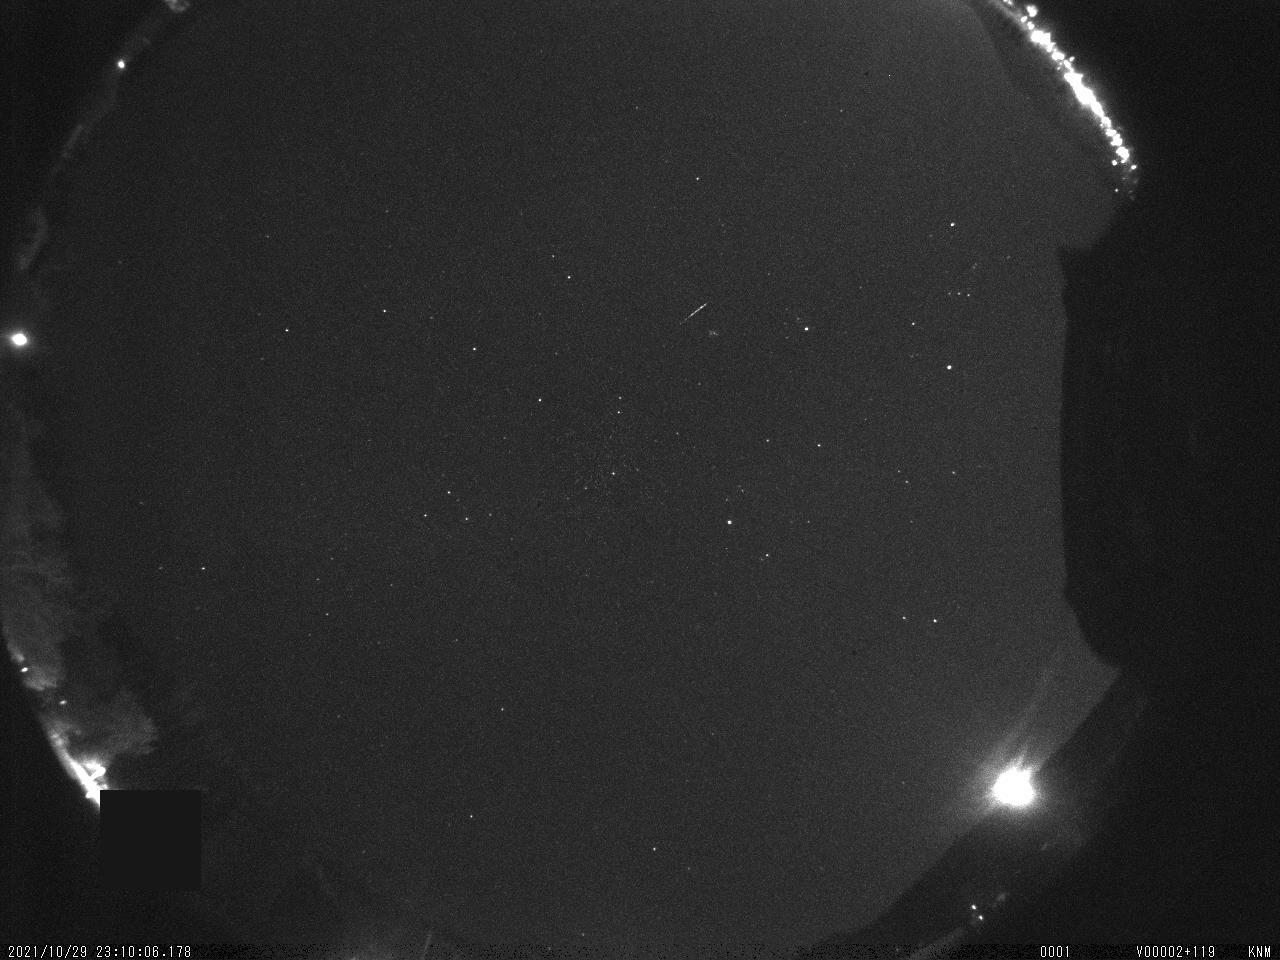meteor: (664, 292, 721, 329)
